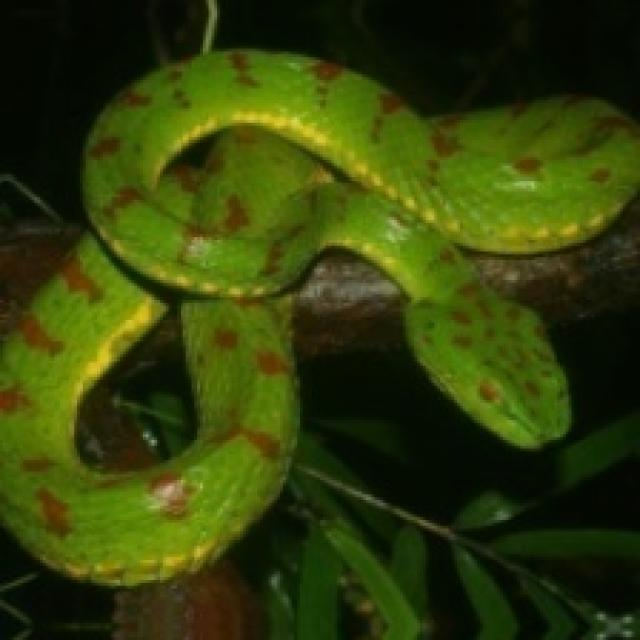philippine pitviper: (0, 51, 637, 583)
